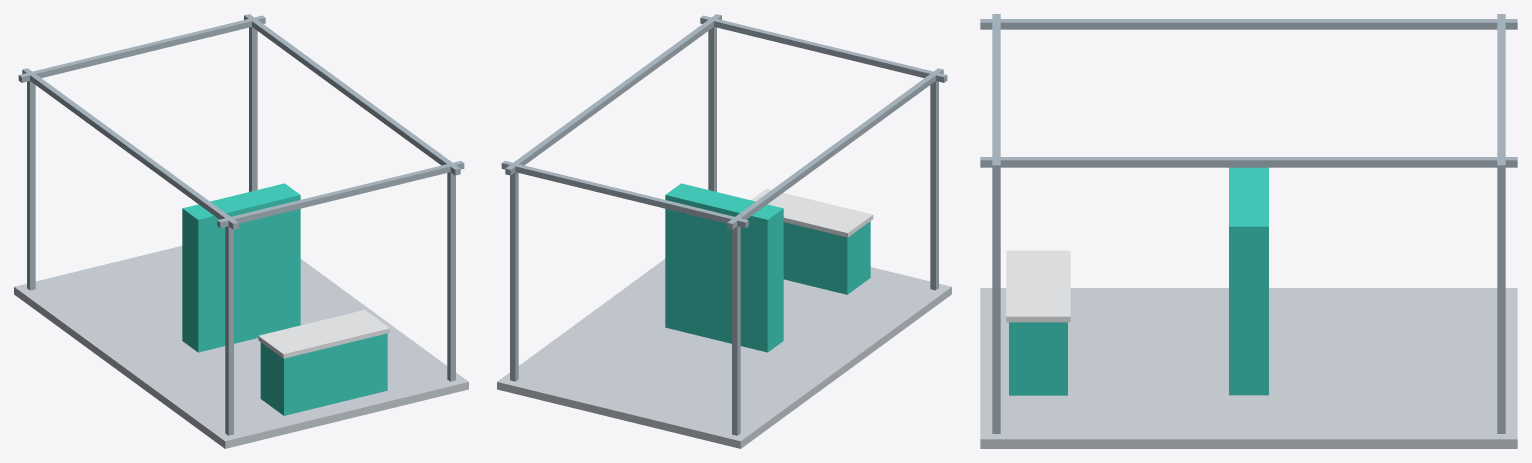
The picture shows the model from 3 angles, left to right: view 1: azimuth 30°, elevation 25°; view 2: azimuth 150°, elevation 25°; view 3: azimuth 270°, elevation 25°; orthographic projection. The views are drawn at different scales.
Visible parts, largest first — view 1: Exhibition Booth Concept; view 2: Exhibition Booth Concept; view 3: Exhibition Booth Concept.
Boxes of the visible parts, x1,y1,x2,y2 form: Exhibition Booth Concept: [14, 14, 468, 448]; Exhibition Booth Concept: [497, 14, 951, 448]; Exhibition Booth Concept: [980, 14, 1517, 448].
Size of the model in its own units: 4 by 3.49 by 6.
